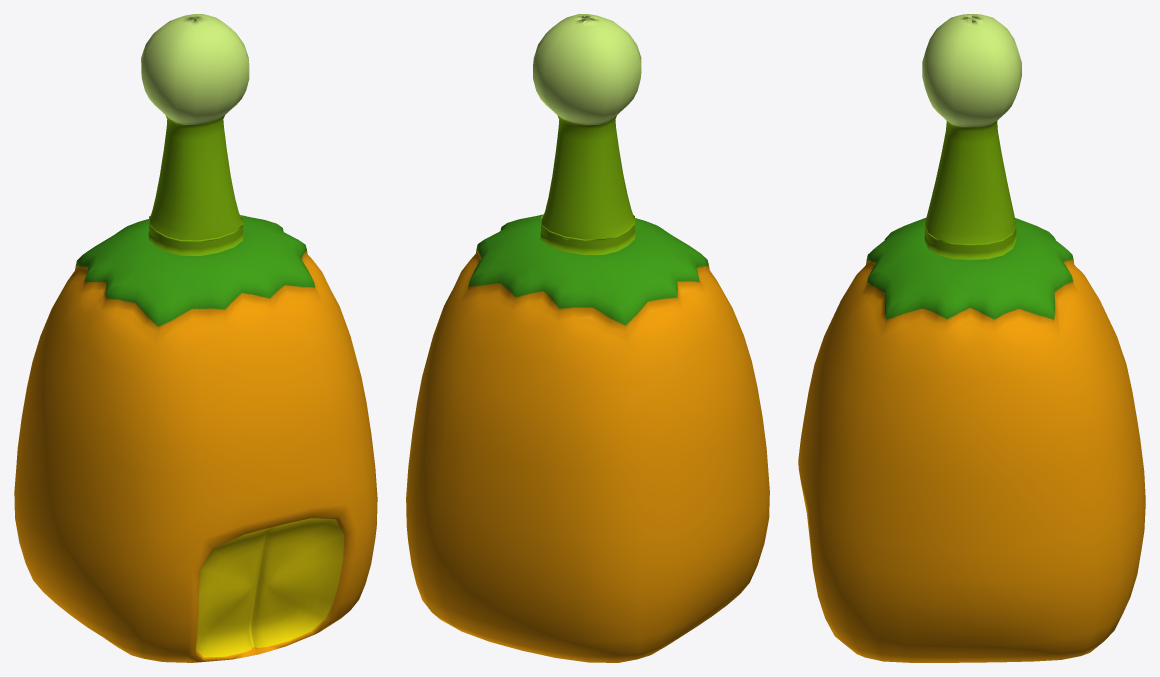
File: House3.fbx
3 views of the same model, side by side, from view 1: azimuth 30°, elevation 25°; view 2: azimuth 150°, elevation 25°; view 3: azimuth 270°, elevation 25° (orthographic).
Parts seen in each view (by area): view 1: Roundcube; view 2: Roundcube; view 3: Roundcube.
Boxes of the visible parts, bbox=[...] form: Roundcube: bbox=[14, 14, 377, 662]; Roundcube: bbox=[406, 14, 769, 662]; Roundcube: bbox=[798, 14, 1145, 662].
Bounding box in the file's own units: 255 × 474 × 247.
1 material, 1 textured.
